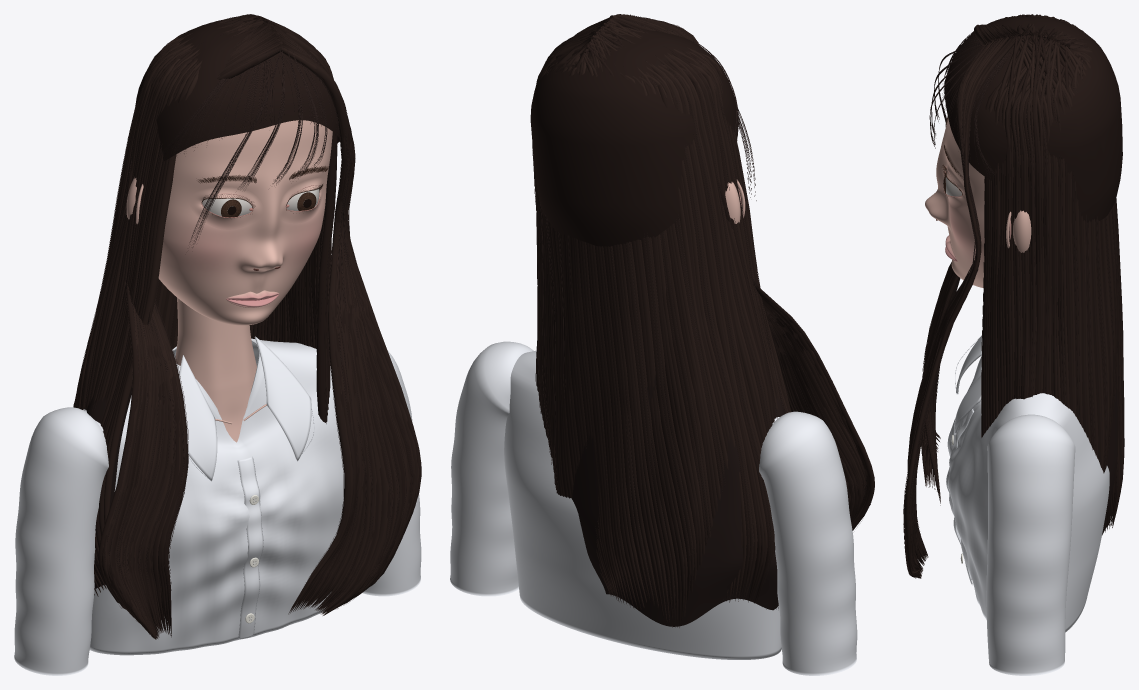
Rendered from gpt6_astra_pro_mcp_blender_rgirl_top_half.glb.
3 renders of one model, left to right at view 1: azimuth 30°, elevation 25°; view 2: azimuth 150°, elevation 25°; view 3: azimuth 270°, elevation 25°, orthographic. The views are drawn at different scales.
Parts seen in each view (by area): view 1: Web · Shirt · white cotton weave, Web · Hair · chestnut fiber 00, Web · Hair · chestnut fiber 01, Web · Hair · chestnut fiber 02, Web · Skin · warm porcelain with vertex blush, Web · Skin · neck and ears, Web · Hair fibers · natural chestnut 02, Web · Hair fibers · natural chestnut 00, Web · Hair fibers · natural chestnut 04, Web · Hair fibers · natural chestnut 06, Web · Hair fibers · natural chestnut 05, Web · Hair fibers · natural chestnut 03 (+5 smaller); view 2: Web · Hair · chestnut fiber 00, Web · Shirt · white cotton weave, Web · Hair · chestnut fiber 02, Web · Hair · chestnut fiber 01, Web · Hair fibers · natural chestnut 00, Web · Hair fibers · natural chestnut 02, Web · Hair fibers · natural chestnut 04, Web · Hair fibers · natural chestnut 05, Web · Hair fibers · natural chestnut 03, Hair · web groom 7, Web · Hair fibers · natural chestnut 06, Hair · web groom 1; view 3: Web · Hair · chestnut fiber 00, Web · Shirt · white cotton weave, Web · Hair · chestnut fiber 01, Web · Hair · chestnut fiber 02, Web · Skin · warm porcelain with vertex blush, Web · Hair fibers · natural chestnut 00, Web · Hair fibers · natural chestnut 02, Web · Hair fibers · natural chestnut 04, Web · Hair fibers · natural chestnut 05, Web · Hair fibers · natural chestnut 06, Web · Hair fibers · natural chestnut 03, Hair · web groom 7 (+2 smaller).
Part boxes in pixels (x1=…): Web · Shirt · white cotton weave: x1=14, y1=336, x2=421, y2=675; Web · Hair · chestnut fiber 00: x1=75, y1=14, x2=420, y2=639; Web · Hair · chestnut fiber 01: x1=73, y1=14, x2=421, y2=638; Web · Hair · chestnut fiber 02: x1=74, y1=14, x2=419, y2=639; Web · Skin · warm porcelain with vertex blush: x1=158, y1=120, x2=332, y2=325; Web · Skin · neck and ears: x1=126, y1=177, x2=266, y2=442; Web · Hair fibers · natural chestnut 02: x1=74, y1=17, x2=398, y2=608; Web · Hair fibers · natural chestnut 00: x1=75, y1=19, x2=406, y2=605; Web · Hair fibers · natural chestnut 04: x1=94, y1=16, x2=411, y2=615; Web · Hair fibers · natural chestnut 06: x1=92, y1=16, x2=390, y2=628; Web · Hair fibers · natural chestnut 05: x1=87, y1=17, x2=413, y2=608; Web · Hair fibers · natural chestnut 03: x1=73, y1=19, x2=413, y2=618; Web · Hair · chestnut fiber 00: x1=530, y1=14, x2=874, y2=627; Web · Shirt · white cotton weave: x1=450, y1=341, x2=857, y2=675; Web · Hair · chestnut fiber 02: x1=532, y1=14, x2=869, y2=627; Web · Hair · chestnut fiber 01: x1=533, y1=14, x2=867, y2=627; Web · Hair fibers · natural chestnut 00: x1=532, y1=16, x2=866, y2=626; Web · Hair fibers · natural chestnut 02: x1=533, y1=15, x2=870, y2=590; Web · Hair fibers · natural chestnut 04: x1=545, y1=14, x2=862, y2=592; Web · Hair fibers · natural chestnut 05: x1=533, y1=17, x2=864, y2=592; Web · Hair fibers · natural chestnut 03: x1=532, y1=15, x2=858, y2=612; Hair · web groom 7: x1=541, y1=16, x2=863, y2=605; Web · Hair fibers · natural chestnut 06: x1=540, y1=21, x2=852, y2=571; Hair · web groom 1: x1=533, y1=17, x2=866, y2=589; Web · Hair · chestnut fiber 00: x1=904, y1=14, x2=1124, y2=578; Web · Shirt · white cotton weave: x1=946, y1=335, x2=1109, y2=675; Web · Hair · chestnut fiber 01: x1=904, y1=14, x2=1124, y2=578; Web · Hair · chestnut fiber 02: x1=904, y1=14, x2=1124, y2=577; Web · Skin · warm porcelain with vertex blush: x1=925, y1=118, x2=984, y2=288; Web · Hair fibers · natural chestnut 00: x1=903, y1=15, x2=1118, y2=570; Web · Hair fibers · natural chestnut 02: x1=909, y1=15, x2=1112, y2=575; Web · Hair fibers · natural chestnut 04: x1=903, y1=24, x2=1105, y2=578; Web · Hair fibers · natural chestnut 05: x1=903, y1=24, x2=1106, y2=567; Web · Hair fibers · natural chestnut 06: x1=909, y1=21, x2=1123, y2=578; Web · Hair fibers · natural chestnut 03: x1=905, y1=18, x2=1113, y2=574; Hair · web groom 7: x1=911, y1=15, x2=1116, y2=568.
Bounding box in the file's own units: 2.67 × 3.81 × 1.33.
